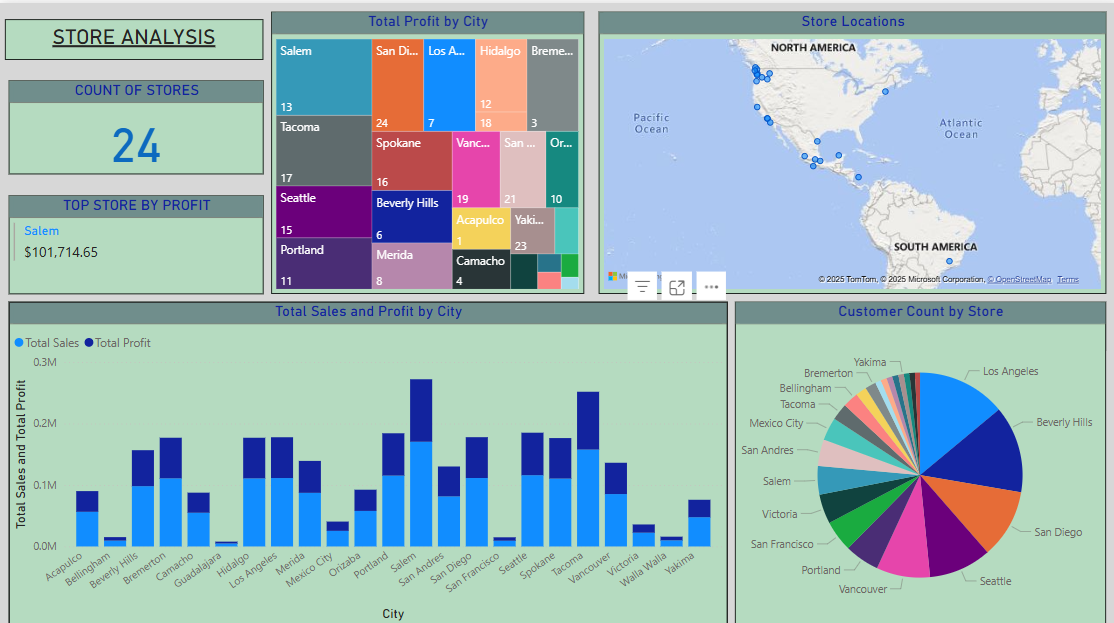

What the dashboard file says about the page in this screenshot:
{"tool":"powerbi","page":{"name":"Store Analysis","canvas":[1280,720],"ordinal":3},"visuals":[{"type":"card","title":"COUNT OF STORES","fields":{"Values":["CountNonNull(Market_Stores.store_id)"]},"box":[10,88.8,291.2,107.5],"z":0},{"type":"map","title":"Store Locations","fields":{"Category":["Market_Stores.store_city"]},"box":[683.8,10,580,322.5],"z":1000},{"type":"columnChart","title":"Total Sales and Profit by City","fields":{"Category":["Market_Stores.store_city"],"Y":["Transactions _1997.Total Sales","Transactions _1997.Total Profit"]},"box":[10,341.2,821.2,370],"z":2000},{"type":"pieChart","title":"Customer Count by Store","fields":{"Category":["Market_Stores.store_city","Market_Stores.store_name"],"Y":["Calendar.Distinct Customer Count"]},"box":[840,341.2,423.8,370],"z":3000},{"type":"treemap","title":"Total Profit by City","fields":{"Group":["Market_Stores.store_city"],"Values":["Transactions _1997.Total Profit"],"Details":["Market_Stores.store_id"]},"box":[310,10,357.5,322.5],"z":4000},{"type":"multiRowCard","title":"TOP STORE BY PROFIT","fields":{"Values":["Market_Stores.store_city","Transactions _1997.Total Profit"]},"box":[10,220,291.2,112.5],"z":5000},{"type":"textbox","box":[6.2,18.8,295,46.2],"z":6000}]}

Visuals, with their boxes in screenshot pixels (x1, y1, x2, y2), scaled from the page's 1280x720 canvas onto the 1114x623 screenshot:
"COUNT OF STORES" card: x1=9 y1=77 x2=262 y2=170
"Store Locations" map: x1=595 y1=9 x2=1100 y2=288
"Total Sales and Profit by City" columnChart: x1=9 y1=295 x2=723 y2=615
"Customer Count by Store" pieChart: x1=731 y1=295 x2=1100 y2=615
"Total Profit by City" treemap: x1=270 y1=9 x2=581 y2=288
"TOP STORE BY PROFIT" multiRowCard: x1=9 y1=190 x2=262 y2=288
textbox: x1=5 y1=16 x2=262 y2=56
